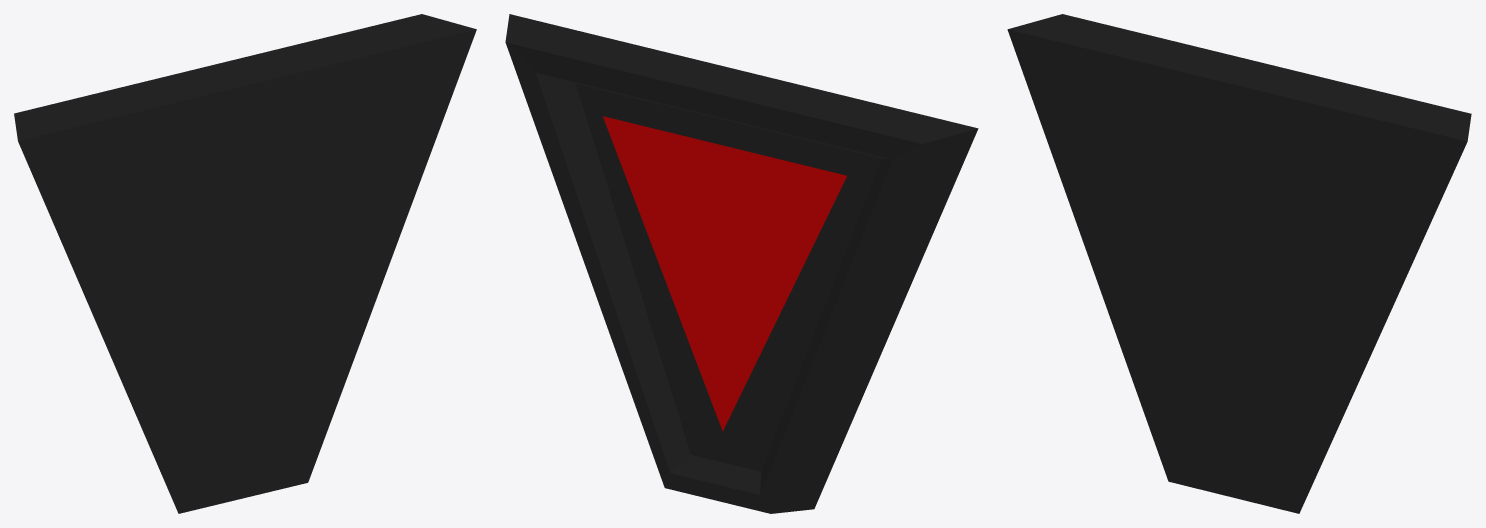
File: tcg-card-counter-down.glb
3 views of the same model, side by side, from view 1: azimuth 30°, elevation 25°; view 2: azimuth 150°, elevation 25°; view 3: azimuth 330°, elevation 25° (orthographic). The views are drawn at different scales.
Visible parts, largest first — view 1: card-counter-down; view 2: card-counter-down; view 3: card-counter-down.
Part boxes in pixels (box(x1,y1,x2,y2)): card-counter-down: box(14, 14, 476, 513); card-counter-down: box(505, 14, 978, 513); card-counter-down: box(1007, 14, 1471, 513).
Bounding box in the file's own units: 0.45 × 0.3866 × 0.05.
2 materials, 2 textured.
